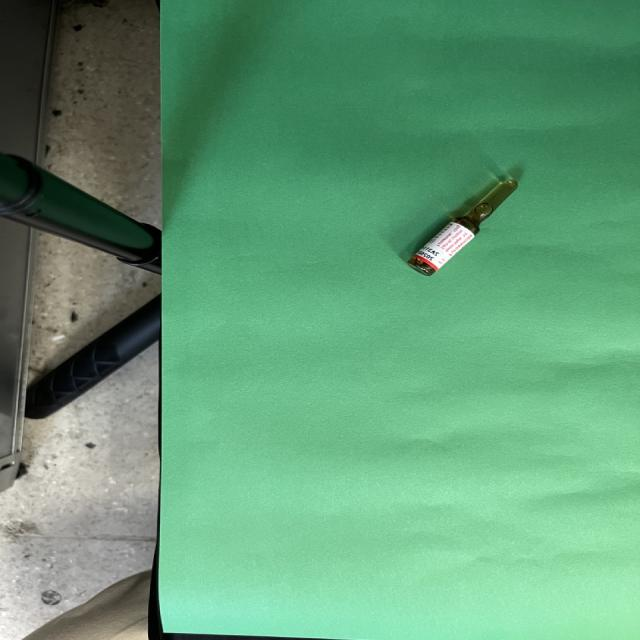Ampoules: (407, 179, 519, 276)
